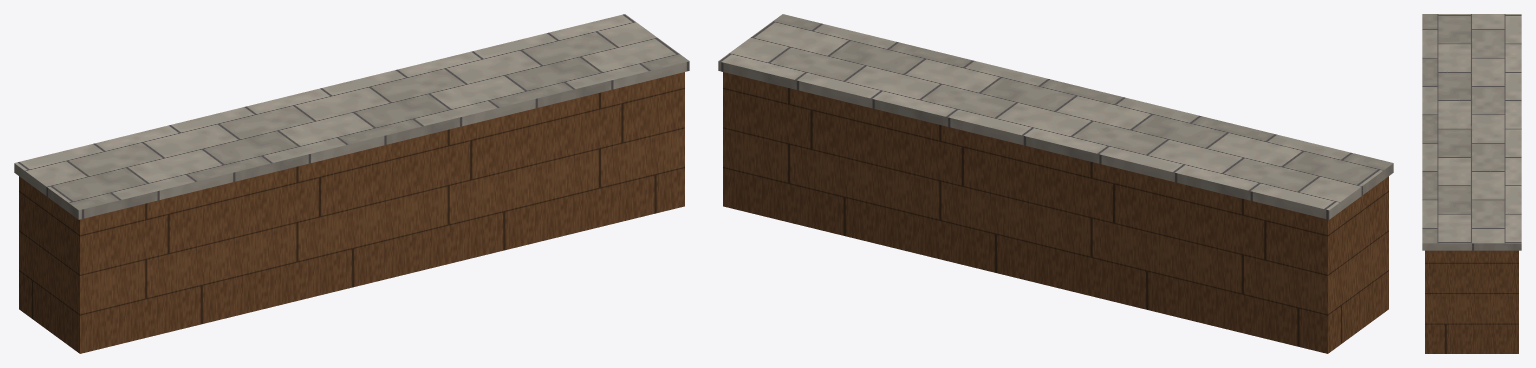
The model's file is counter.obj.
The picture shows the model from 3 angles, left to right: view 1: azimuth 30°, elevation 25°; view 2: azimuth 150°, elevation 25°; view 3: azimuth 270°, elevation 25°; orthographic projection. The views are drawn at different scales.
Visible parts, largest first — view 1: wood, stone; view 2: wood, stone; view 3: stone, wood.
Boxes of the visible parts, left/top/right/bottom form: wood: left=19, top=72, right=684, bottom=353; stone: left=14, top=14, right=689, bottom=219; wood: left=723, top=72, right=1388, bottom=353; stone: left=718, top=14, right=1393, bottom=219; stone: left=1422, top=14, right=1521, bottom=250; wood: left=1425, top=250, right=1518, bottom=353.
Size of the model in its own units: 4.04 by 0.92 by 0.74.
2 materials, 2 textured.
